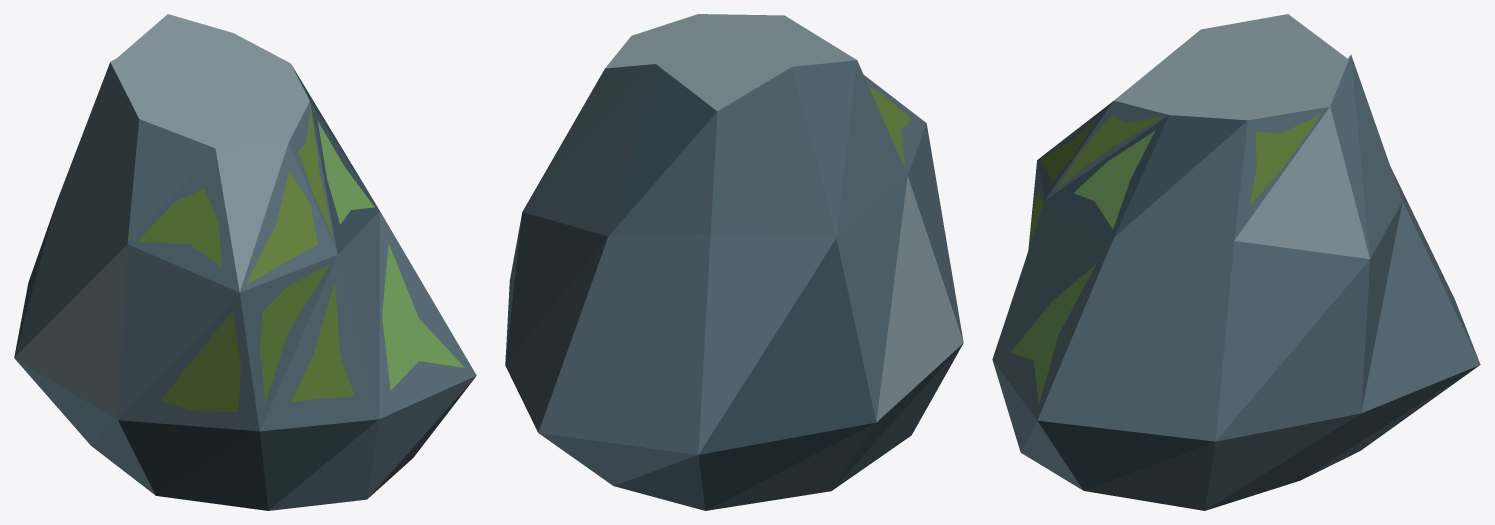
Rendered from rock_02.glb.
3 views of the same model, side by side, from view 1: azimuth 30°, elevation 25°; view 2: azimuth 150°, elevation 25°; view 3: azimuth 270°, elevation 25° (orthographic). The views are drawn at different scales.
Visible parts, largest first — view 1: Rock; view 2: Rock; view 3: Rock.
Part boxes in pixels (x1,y1,x2,y2): Rock: [14, 14, 476, 510]; Rock: [505, 14, 963, 510]; Rock: [992, 14, 1480, 510].
Size of the model in its own units: 1.3 by 1.26 by 1.47.
